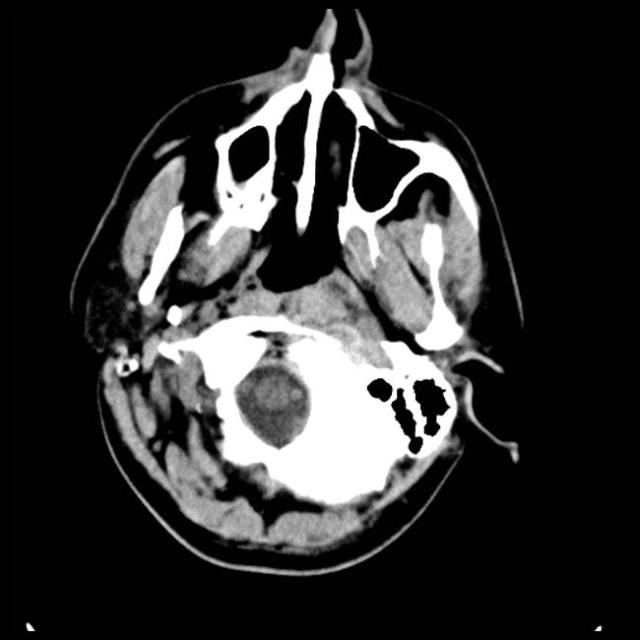lesion: (69, 7, 530, 575)
